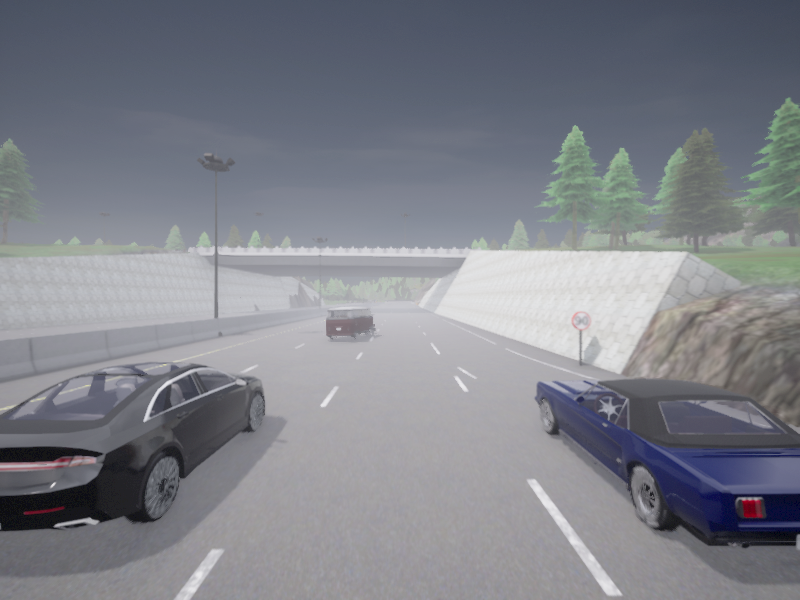vehicle: (534, 378, 799, 549), (0, 362, 264, 531), (326, 307, 374, 339)
